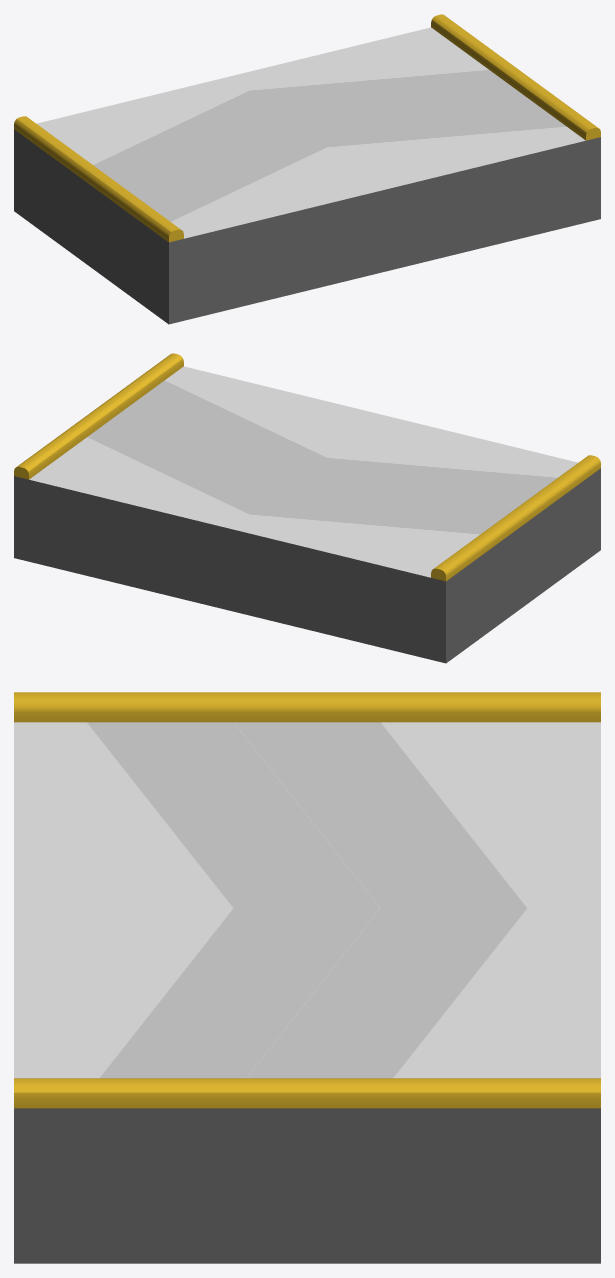
The model's file is Platform_Straight.fbx.
The picture shows the model from 3 angles, top to bottom: view 1: azimuth 30°, elevation 25°; view 2: azimuth 150°, elevation 25°; view 3: azimuth 270°, elevation 25°; orthographic projection. The views are drawn at different scales.
Parts seen in each view (by area): view 1: Platform_Straight; view 2: Platform_Straight; view 3: Platform_Straight.
Boxes of the visible parts, left/top/right/bottom form: Platform_Straight: left=14, top=14, right=600, bottom=324; Platform_Straight: left=14, top=353, right=600, bottom=663; Platform_Straight: left=14, top=692, right=600, bottom=1263.
Size of the model in its own units: 860 by 176 by 534.
Materials: 4 (1 with a texture image).
